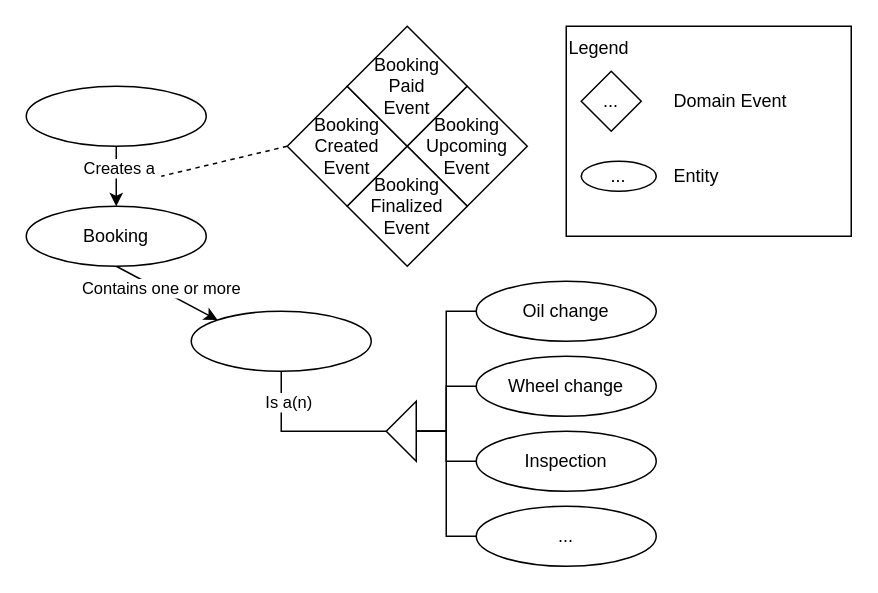
Image size: 878x593. Some labels were removed from this diagram. Each missing label, with the box of its shape:
Customer: (25, 85, 206, 146)
Service: (190, 310, 371, 371)
